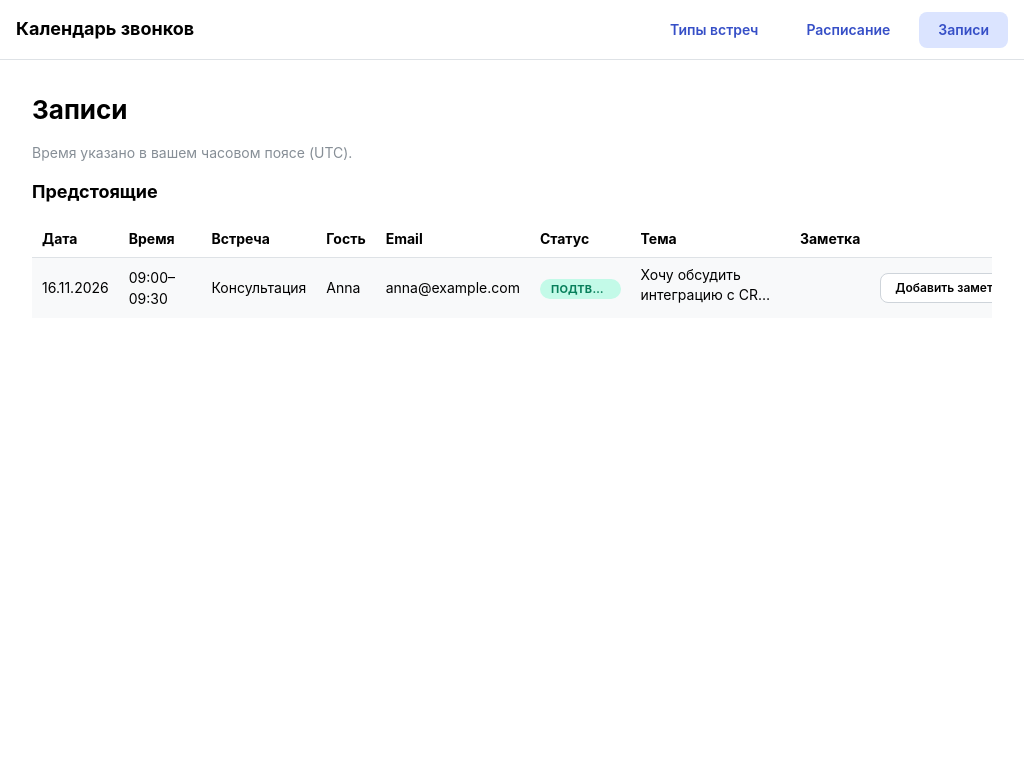
Test: BookingsPage › guest topic › clamps a long topic in the cell and opens the full text in a read-only modal
Click the button with aria-label "Показать тему разговора: Anna, 16.11.2026 09:00" at coordinates (710, 286), box top-left (640, 265), bottom-right (780, 306)
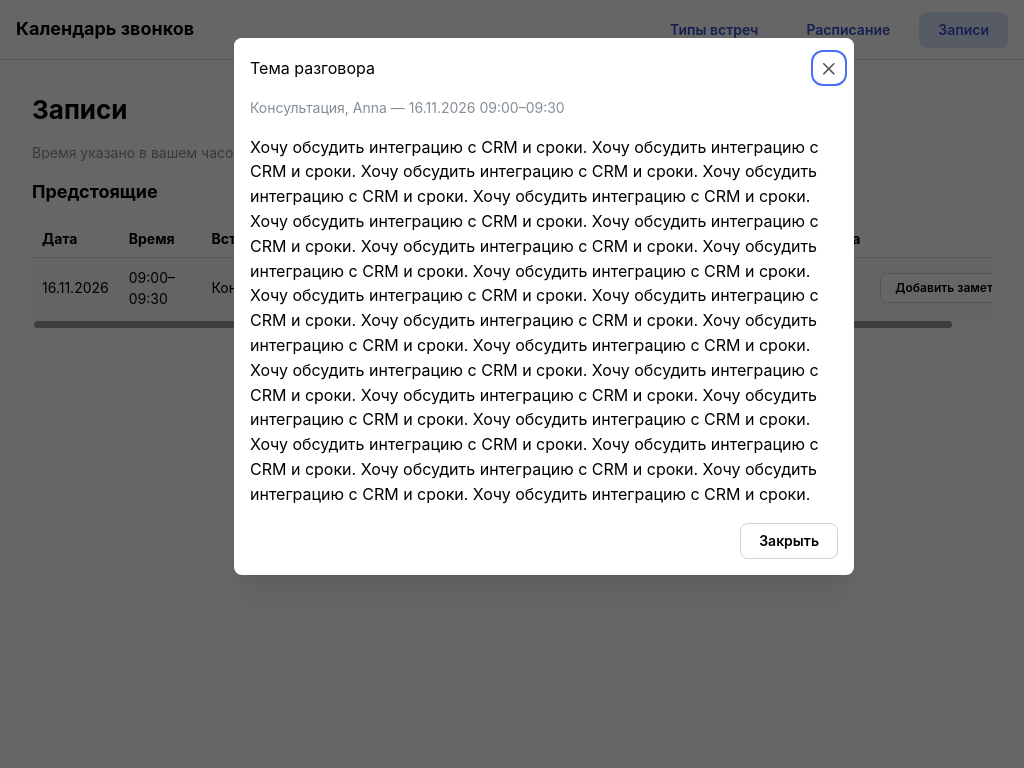
Click the button "Закрыть" at coordinates (789, 541), box top-left (740, 523), bottom-right (838, 559)
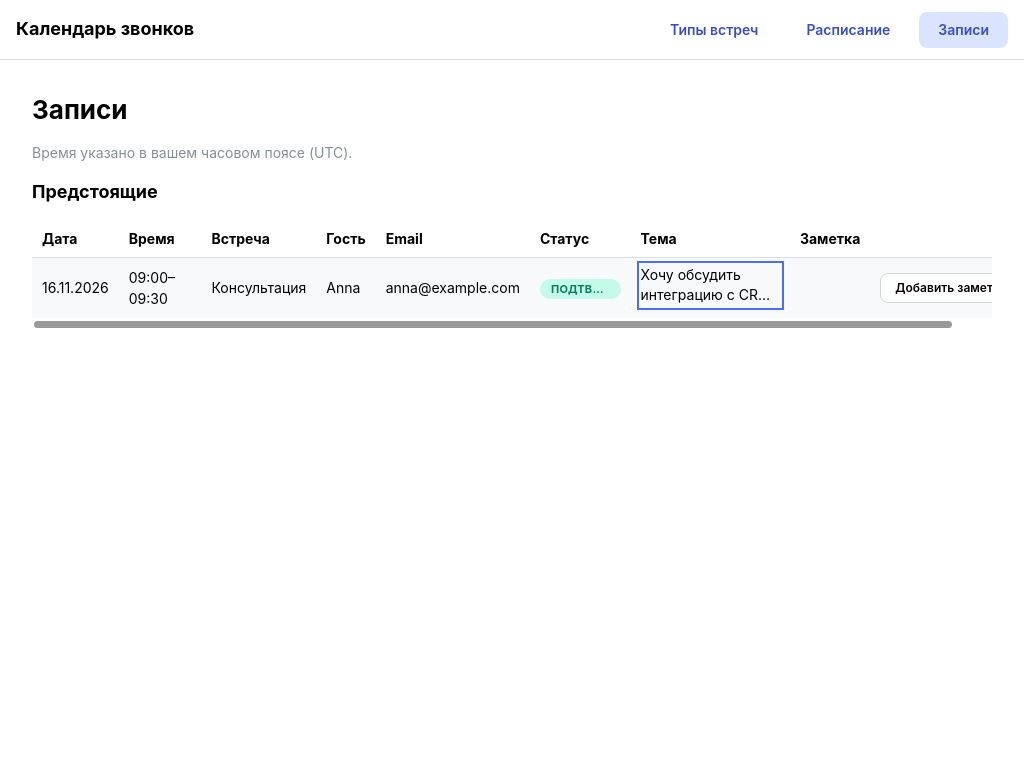
Check: the dialog is gone
